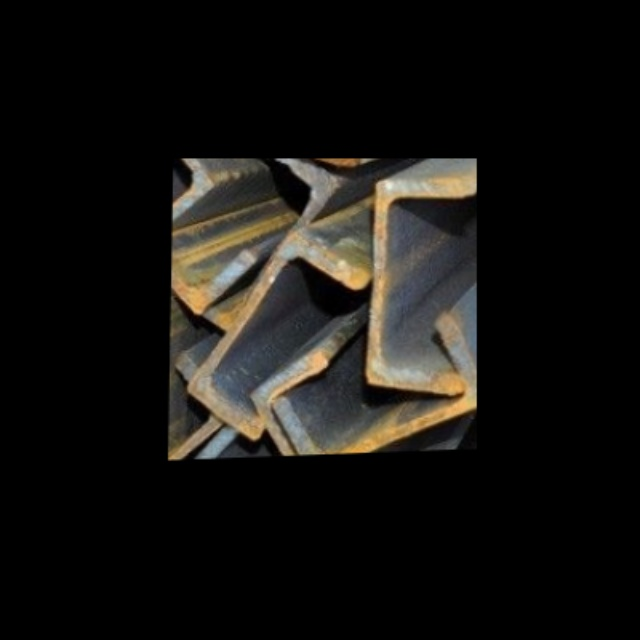Shveller: (196, 236, 357, 433), (278, 324, 477, 456), (371, 181, 472, 391), (214, 158, 329, 324), (255, 355, 415, 457), (171, 158, 251, 306), (200, 427, 359, 459), (168, 358, 215, 460)
